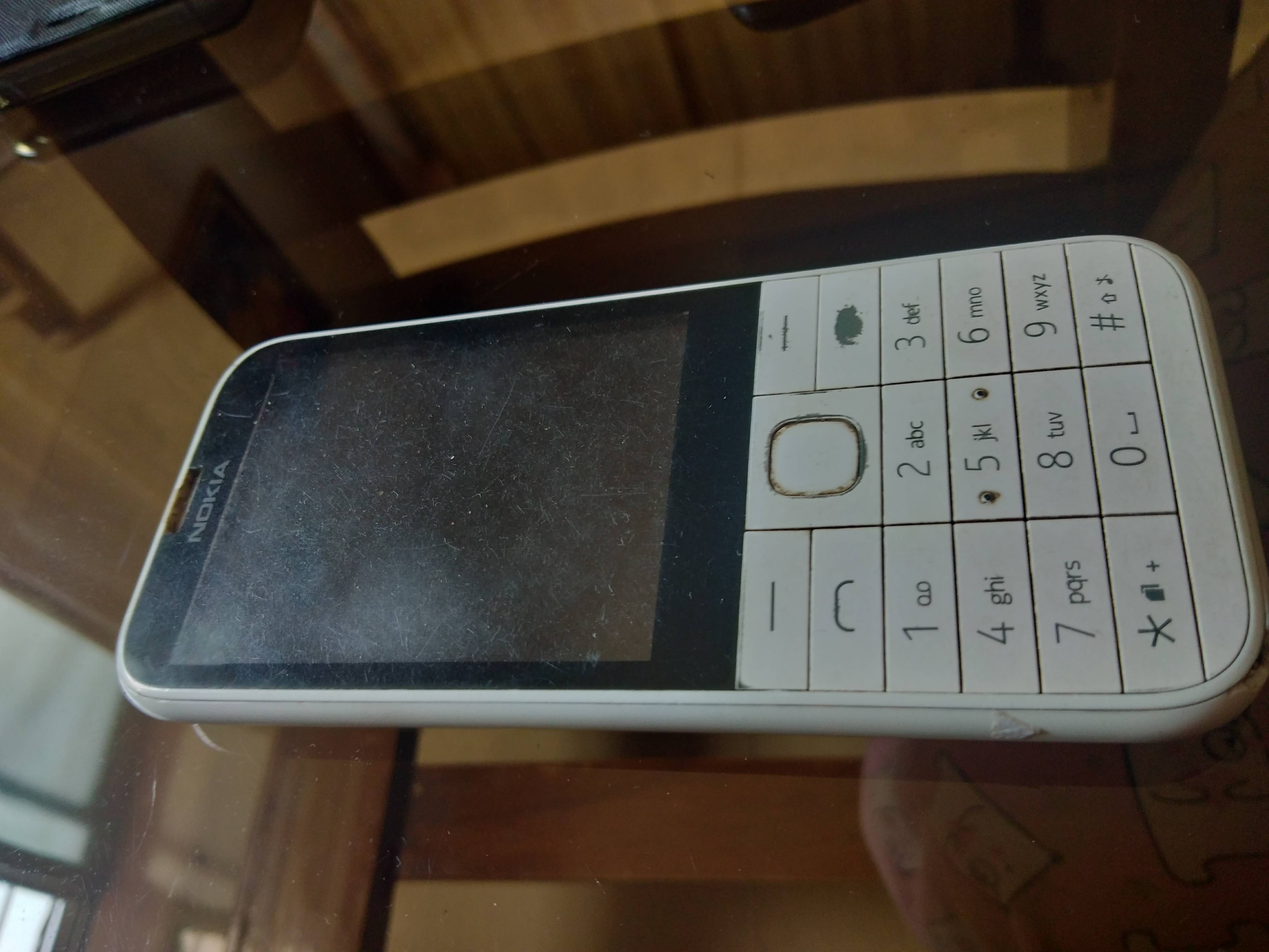Electronics: (107, 207, 1269, 778)
